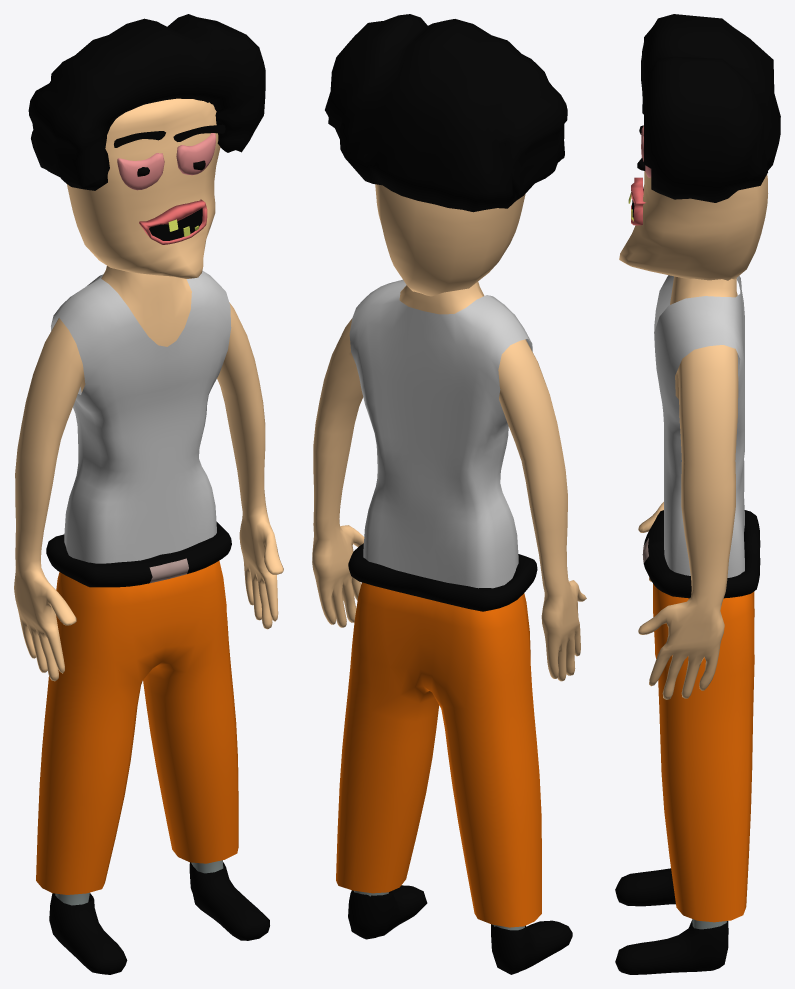
The model's file is Player2.fbx.
3 views of the same model, side by side, from view 1: azimuth 30°, elevation 25°; view 2: azimuth 150°, elevation 25°; view 3: azimuth 270°, elevation 25° (orthographic).
Parts seen in each view (by area): view 1: Pants, Top, Torso, Hair, Head, Shoes, Belt, Eye, Mouth, Eye.001, MouthBack; view 2: Pants, Top, Hair, Torso, Head, Shoes, Belt; view 3: Pants, Hair, Torso, Top, Head, Shoes, Belt, Mouth.
Part boxes in pixels (bbox=[...]): Pants: bbox=[36, 561, 238, 894]; Top: bbox=[51, 270, 231, 563]; Torso: bbox=[14, 266, 283, 905]; Hair: bbox=[28, 14, 265, 190]; Head: bbox=[67, 98, 220, 278]; Shoes: bbox=[49, 862, 269, 974]; Belt: bbox=[46, 522, 231, 587]; Eye: bbox=[117, 153, 164, 190]; Mouth: bbox=[139, 199, 207, 244]; Eye.001: bbox=[176, 133, 215, 175]; MouthBack: bbox=[149, 208, 202, 240]; Pants: bbox=[336, 582, 541, 927]; Top: bbox=[349, 279, 532, 588]; Hair: bbox=[325, 14, 567, 212]; Torso: bbox=[312, 281, 586, 930]; Head: bbox=[375, 184, 525, 296]; Shoes: bbox=[348, 885, 572, 974]; Belt: bbox=[348, 543, 537, 611]; Pants: bbox=[653, 584, 754, 922]; Hair: bbox=[641, 14, 780, 202]; Torso: bbox=[638, 276, 738, 929]; Top: bbox=[654, 275, 744, 577]; Head: bbox=[619, 171, 768, 280]; Shoes: bbox=[615, 868, 728, 974]; Belt: bbox=[642, 510, 760, 598]; Mouth: bbox=[631, 177, 645, 225].
Bounding box in the file's own units: 886 × 3128 × 515.
